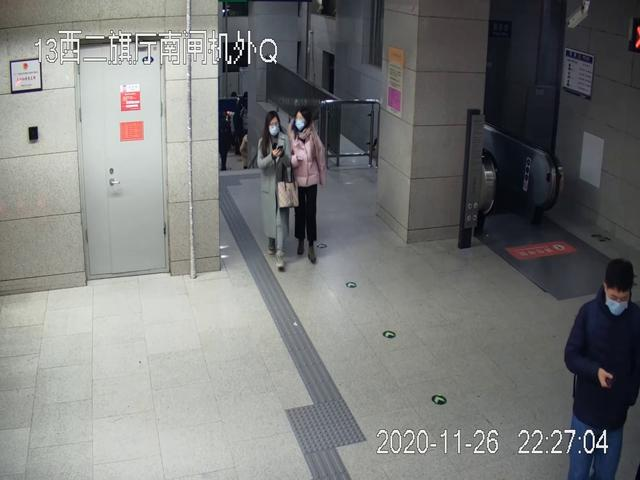person: (564, 259, 640, 480), (288, 105, 329, 263), (257, 110, 296, 271)
